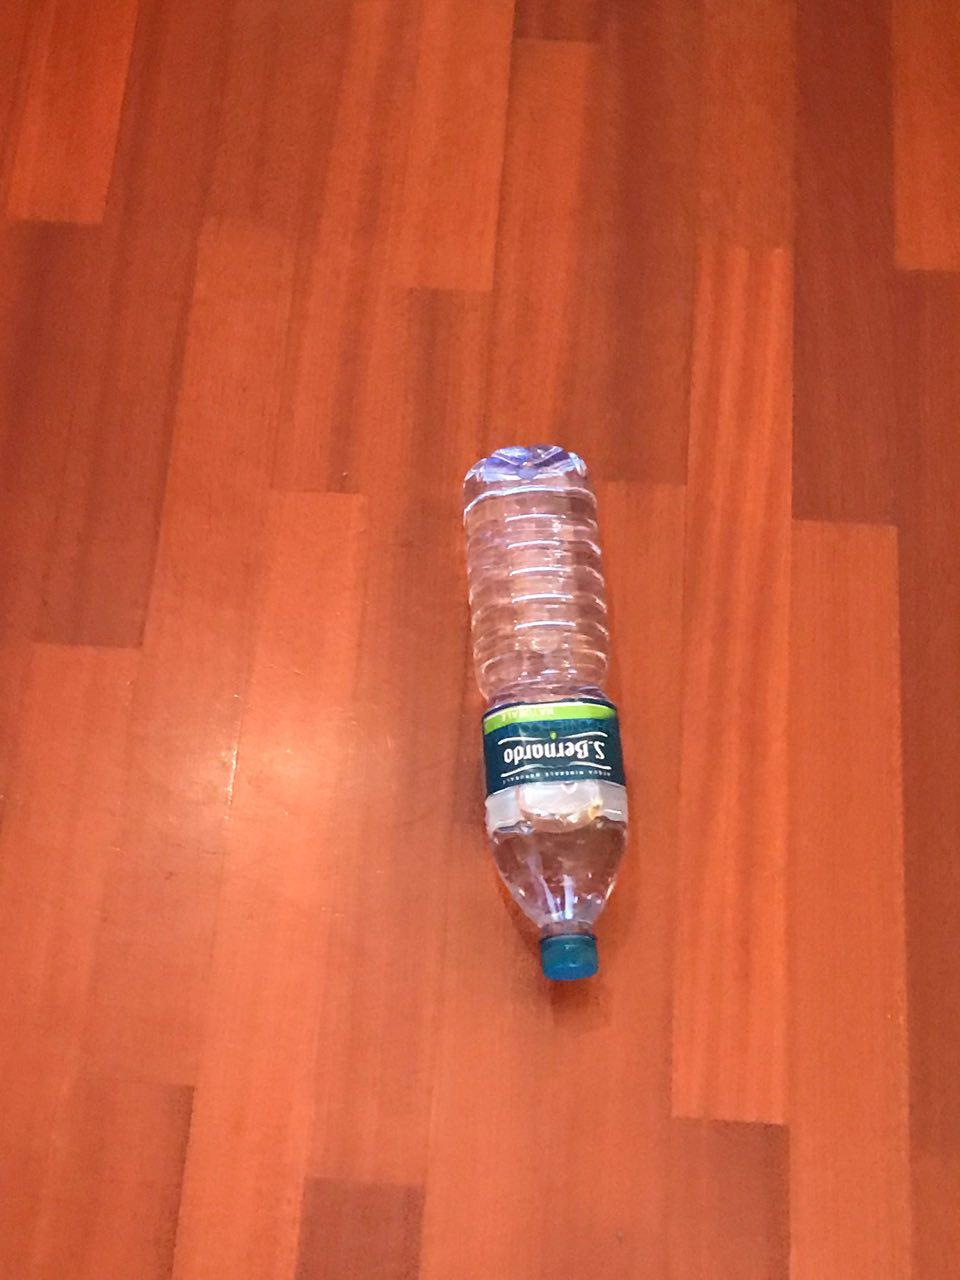san_bernardo: (460, 444, 630, 981)
